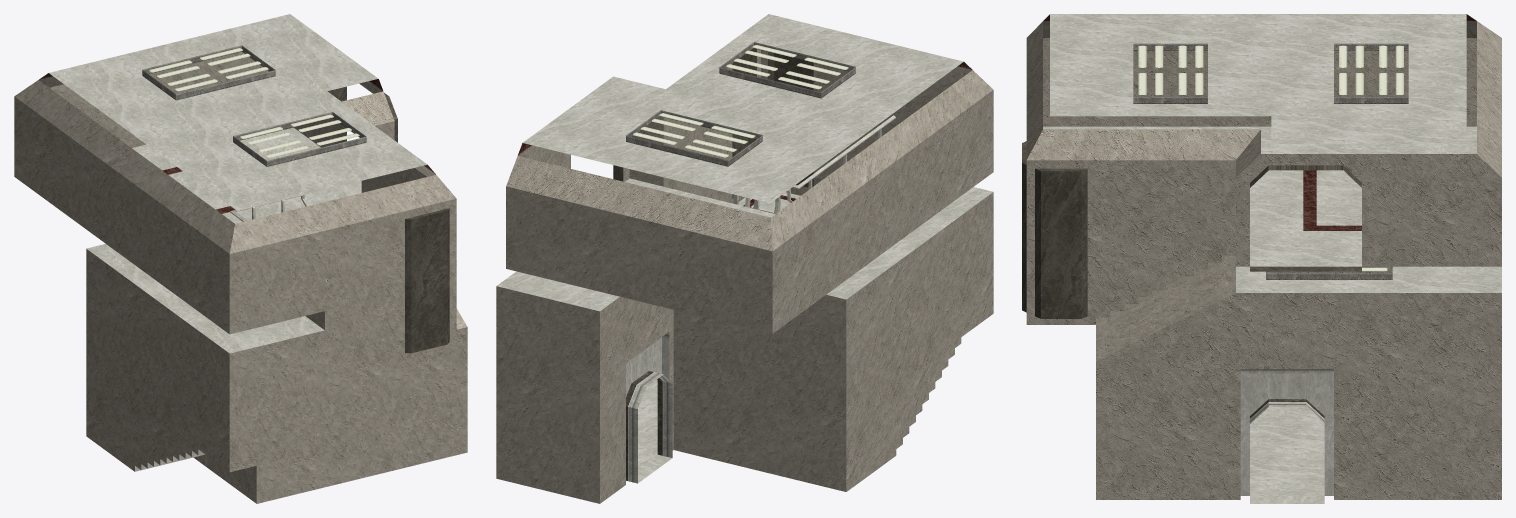
Rendered from thm_tato_assoc_hall_civ_s01_r6_stairwellb_mesh_stairwellb.fbx.
3 renders of one model, left to right at view 1: azimuth 30°, elevation 25°; view 2: azimuth 150°, elevation 25°; view 3: azimuth 270°, elevation 25°, orthographic. The views are drawn at different scales.
Visible parts, largest first — view 1: mesh_node; view 2: mesh_node; view 3: mesh_node.
Part boxes in pixels (x1=…): mesh_node: x1=14, y1=14, x2=467, y2=503; mesh_node: x1=496, y1=14, x2=993, y2=503; mesh_node: x1=1022, y1=14, x2=1501, y2=503.
Bounding box in the file's own units: 9.45 × 10.58 × 12.86.
